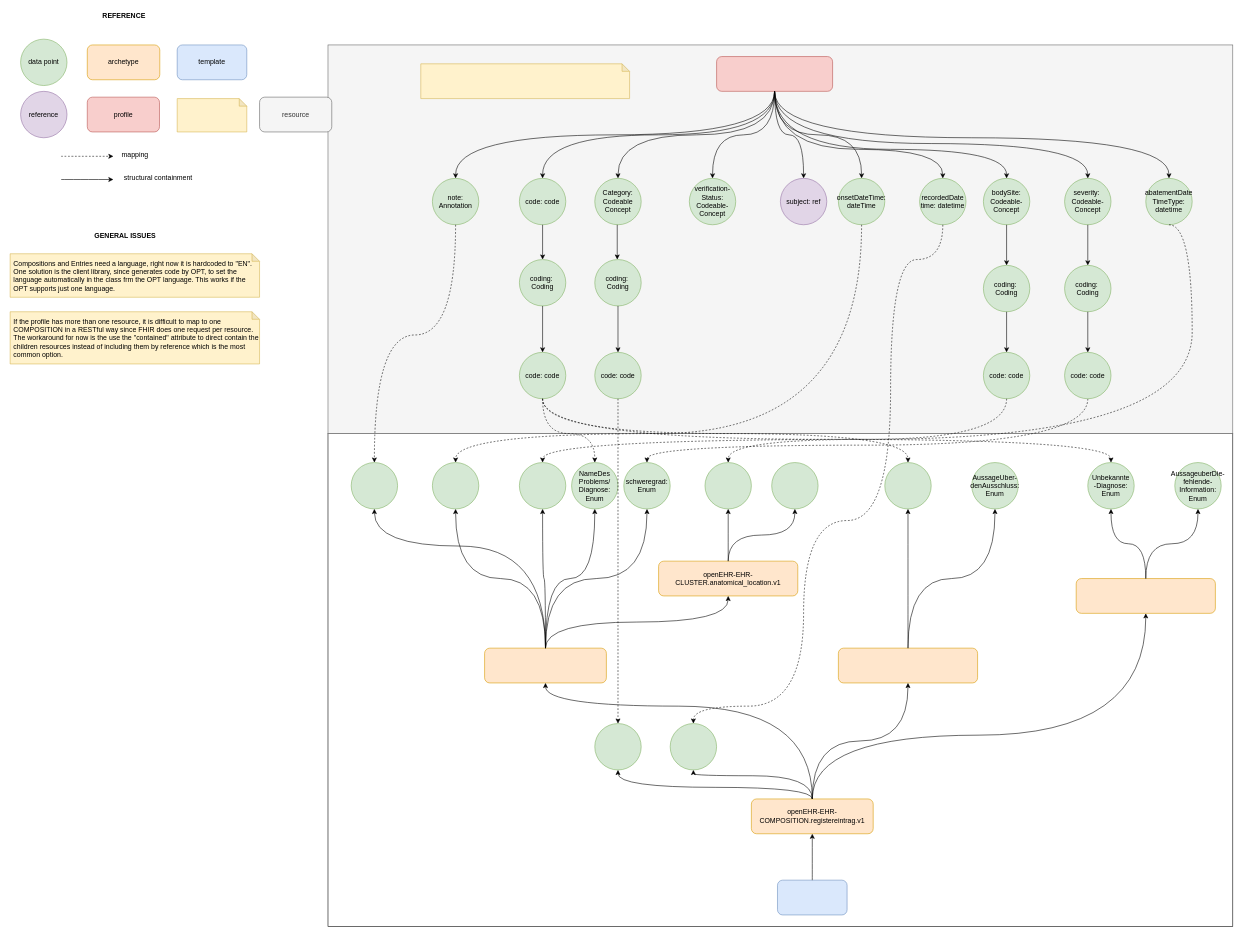
The diagram is 1243 pixels wide and 937 high, and some of its shapes have lost their labels. The centre of each missing label's shape, as x and y in pixels:
Diagnose - Condition: the point at 774,73
GECCO-Diagnose: the point at 812,897
https://simplifier.net/forschungsnetzcovid-19/diagnosiscovid19: the point at 525,81
kategorie: Enum: the point at 617,746
kommentar: string: the point at 374,485
lateralitat: Enum: the point at 794,485
nameDer Korper- stelle: Enum: the point at 727,485
note: the point at 212,115
openEHR-EHR-EVALUATION.absence.v2: the point at 1145,595
openEHR-EHR-EVALUATION.exclusion_specific.v1: the point at 908,665
openEHR-EHR-EVALUATION.problem_diagnosis.v1: the point at 545,665
Problem Diagnose DefiningCode: Enum: the point at 907,485
startTime: datetime: the point at 693,746
ZeitpunktDer Genesung/ Datum: dateTime: the point at 542,485
ZeitpunktDes Auftretens/ Datum: dateTime: the point at 455,485
